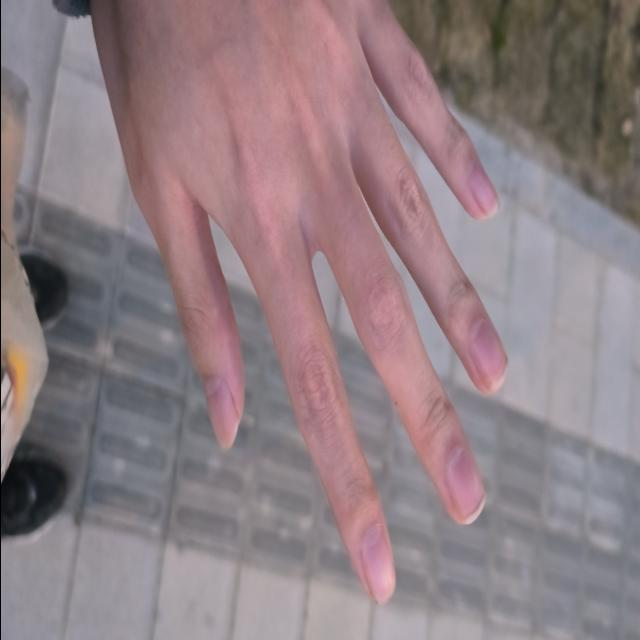Nail: (445, 446, 485, 525), (199, 375, 237, 450), (359, 527, 395, 606), (468, 319, 506, 389), (467, 160, 498, 217)
